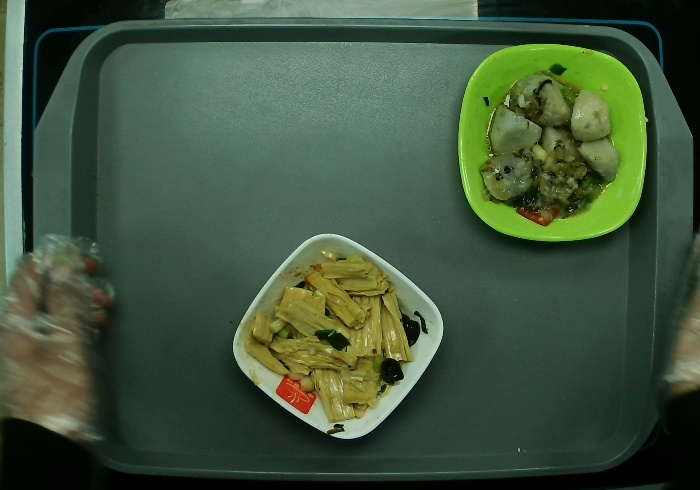SHKJ-Bai_Se_Xiao_Fang_Die: (231, 231, 446, 443)
SHKJ-Lv_Se_Cai_Die: (455, 38, 653, 246)
